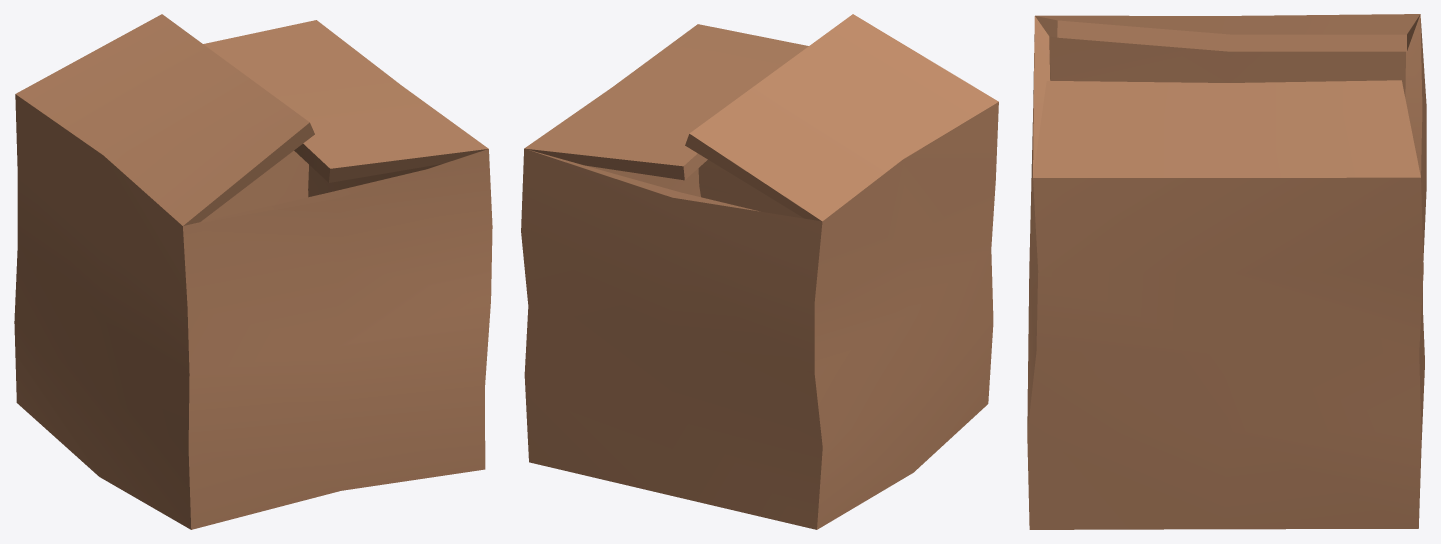
File: Cardboard Box Open.fbx
3 views of the same model, side by side, from view 1: azimuth 30°, elevation 25°; view 2: azimuth 150°, elevation 25°; view 3: azimuth 270°, elevation 25° (orthographic). The views are drawn at different scales.
Visible parts, largest first — view 1: Cardboard Box Open; view 2: Cardboard Box Open; view 3: Cardboard Box Open.
Boxes of the visible parts, x1,y1,x2,y2 form: Cardboard Box Open: (14,14,492,529); Cardboard Box Open: (521,14,998,529); Cardboard Box Open: (1027,14,1426,529).
Size of the model in its own units: 209 by 242 by 208.
